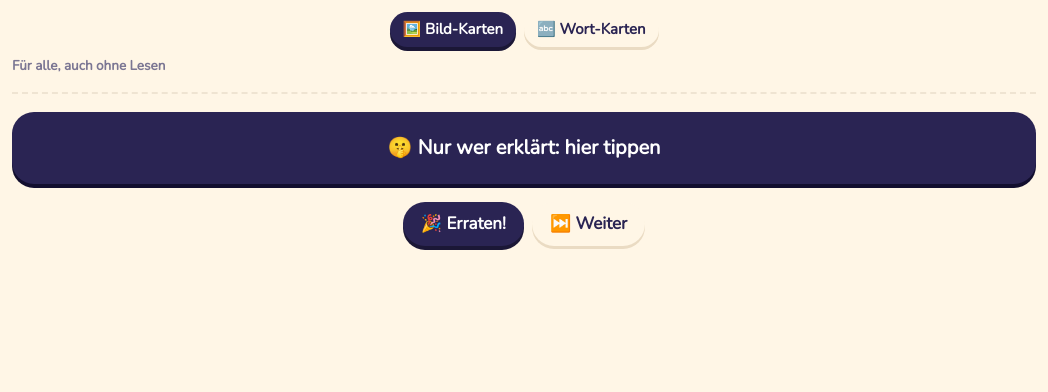
it: einfache Werkzeuge › explain verbirgt die Karte und wechselt zwischen Bild und Wort
Expected: the text "Katze" is not shown
Click the button "🤫 Nur wer erklärt: hier tippen" at (524, 148), box [12,112,1036,184]
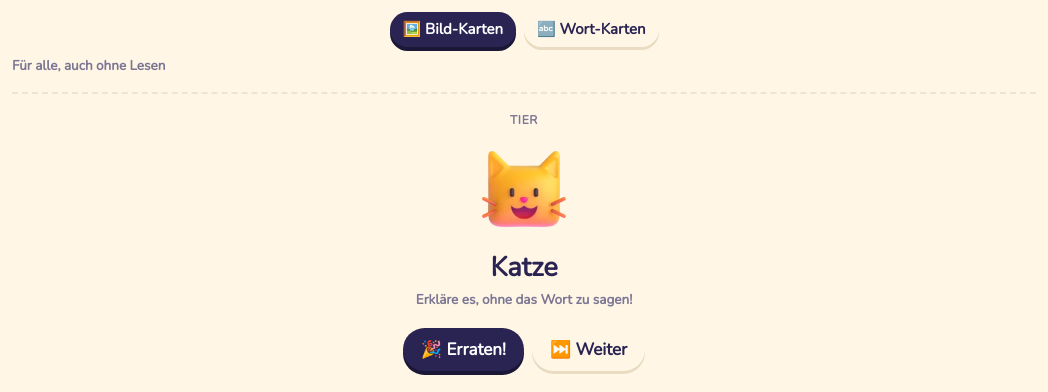
Now the text "Katze" is shown, box [490,252,558,283]
Now the text "Tier" is shown, box [510,112,538,129]
Click the button "🎉 Erraten!" at (463, 350), box [403,328,524,371]
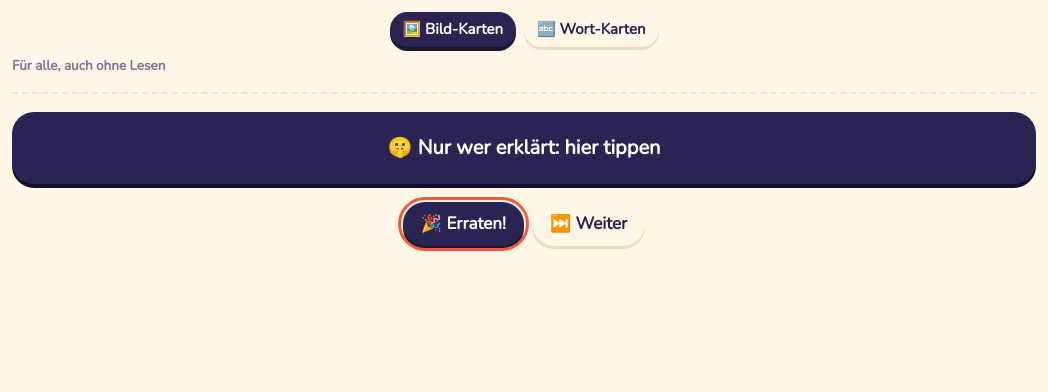
Now the text "Katze" is gone
Now the button "🤫 Nur wer erklärt: hier tippen" is shown, box [12,112,1036,184]
Click the button "🔤 Wort-Karten" at (591, 30), box [524,12,658,47]
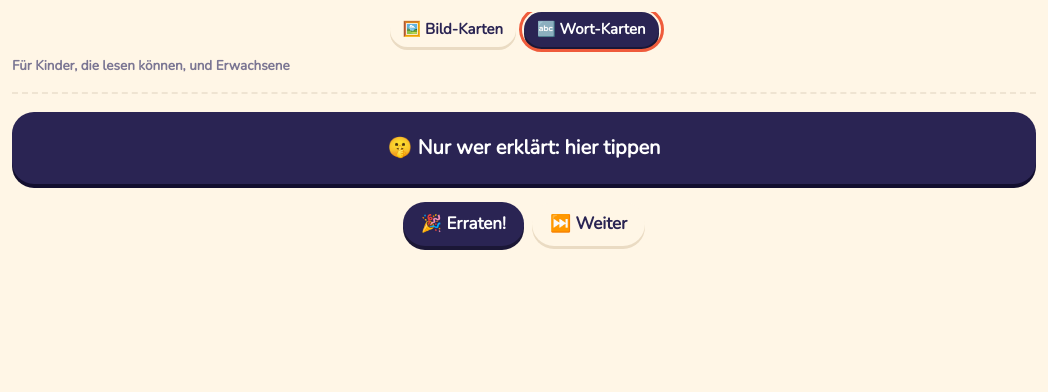
Now the button "🔤 Wort-Karten" is pressed, box [524,12,658,47]
Click the button "🤫 Nur wer erklärt: hier tippen" at (524, 148), box [12,112,1036,184]
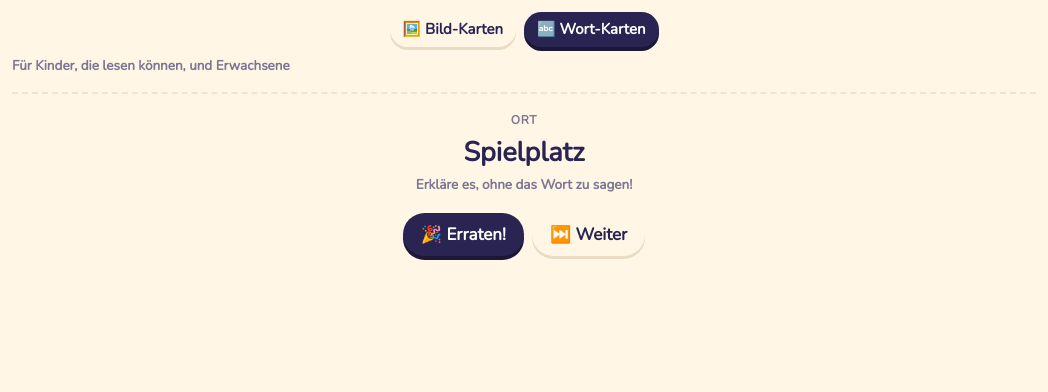
Now the text "Spielplatz" is shown, box [464,137,584,168]
